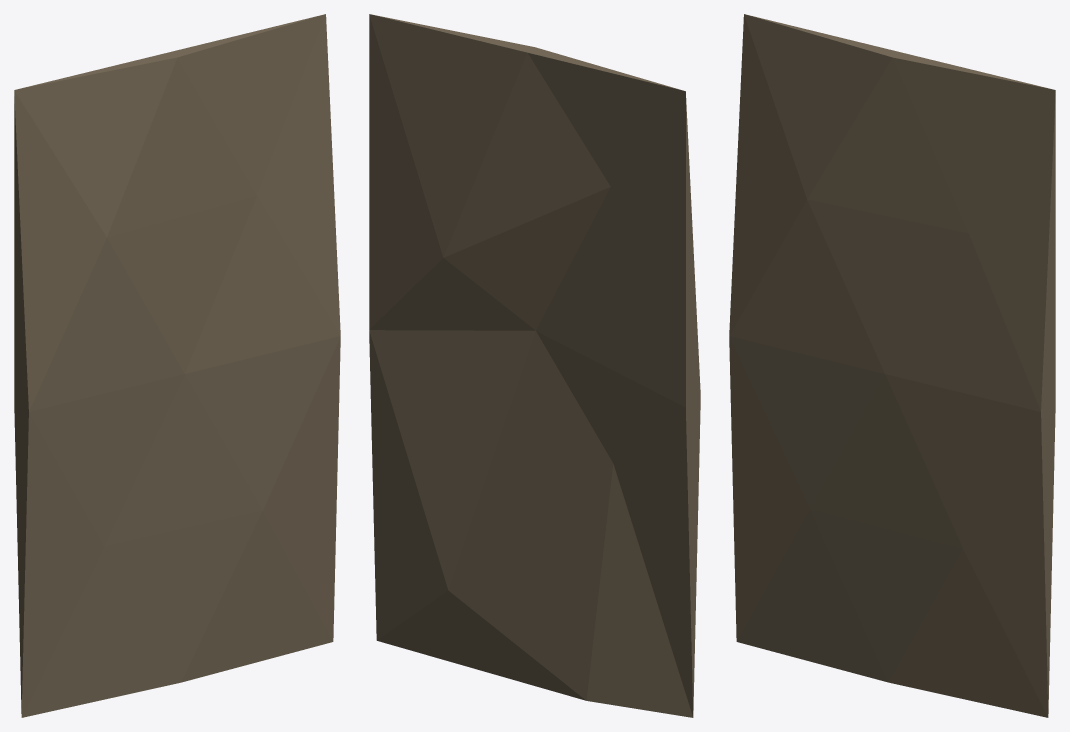
Rendered from Door_2_3_low.fbx.
The picture shows the model from 3 angles, left to right: view 1: azimuth 30°, elevation 25°; view 2: azimuth 150°, elevation 25°; view 3: azimuth 330°, elevation 25°; orthographic projection.
Parts seen in each view (by area): view 1: Door_2_3_low; view 2: Door_2_3_low; view 3: Door_2_3_low.
Boxes of the visible parts, x1,y1,x2,y2 form: Door_2_3_low: (14,14,340,717); Door_2_3_low: (369,14,700,717); Door_2_3_low: (729,14,1055,717).
Bounding box in the file's own units: 1.19 × 2.28 × 0.1299.
